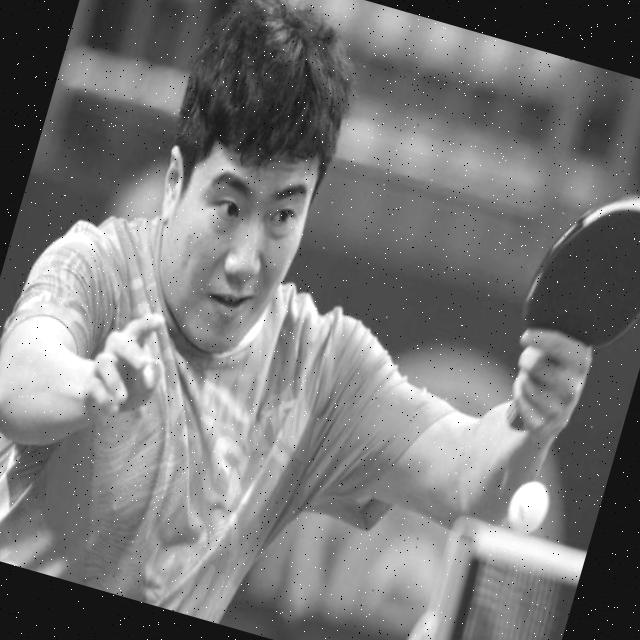ping-pong-ball: (496, 468, 560, 540)
